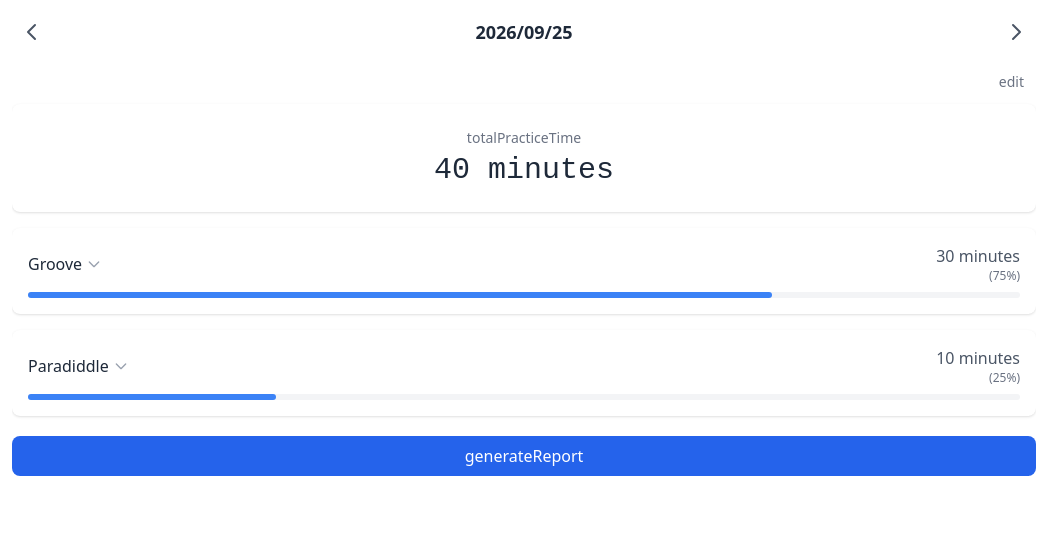
Test case: DailyReport sessions › tapping an item card shows only that item's sessions
Expected: the text "21:02 – 21:07" is not shown
Click the text "Paradiddle" at (78,366), box [28,354,129,378]
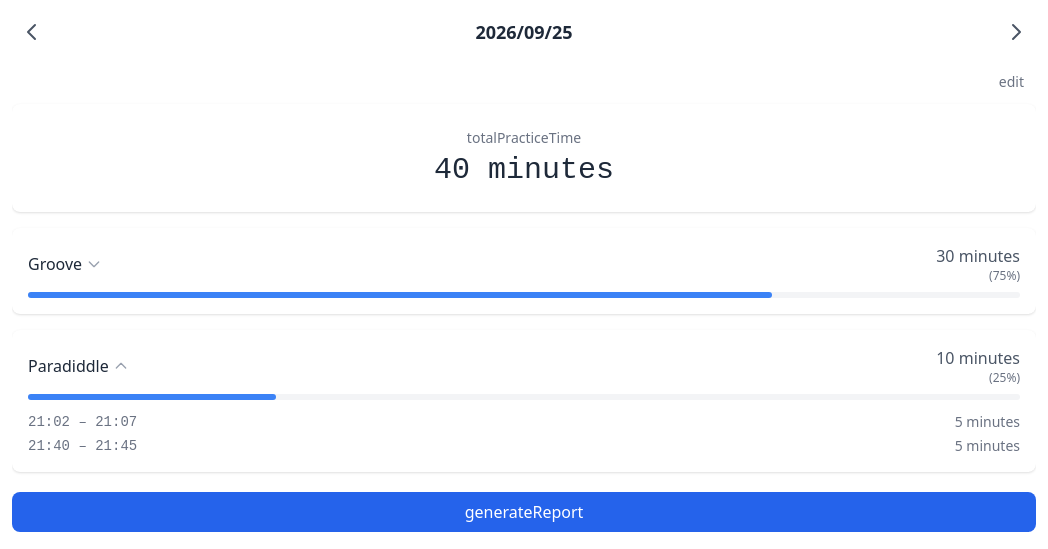
Expected: the text "21:02 – 21:07" is shown, [28,412,137,432]
Expected: the text "21:40 – 21:45" is shown, [28,436,137,456]
